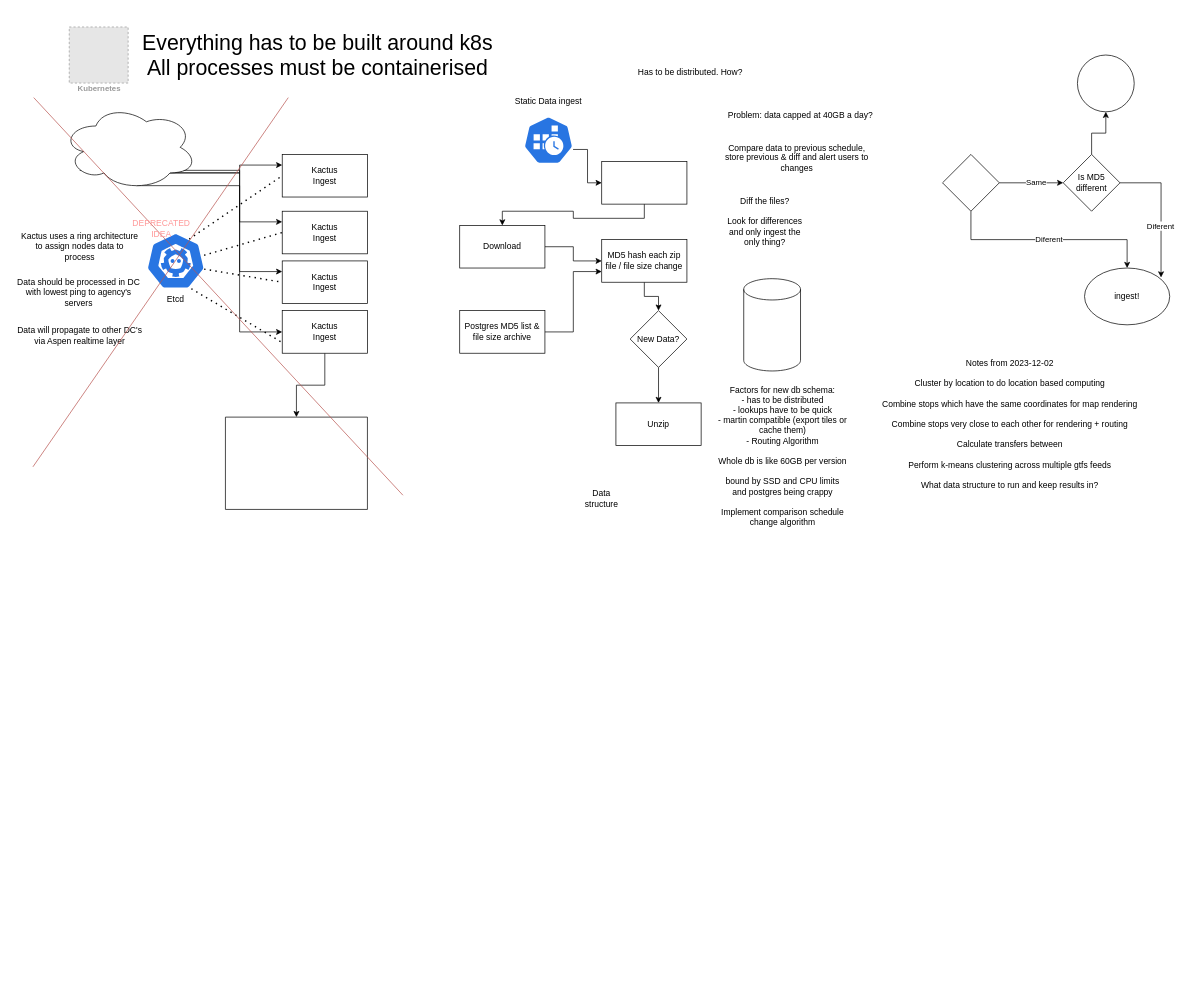
Image size: 1186x997. Some labels were removed from this diagram. Grey dashed boxes stand in for pictures. The box of each missing label's shape, as (x1, y1, x2, y2) in pixels:
Ingester Trigger Cron: (601, 161, 687, 204)
Is file size different: (942, 154, 999, 211)
Kactus Public Developer API (based on v1 kactus, should be backwards compatible): (225, 416, 367, 509)
No: (1077, 54, 1134, 112)
Postgres GTFS Static Data: (743, 278, 801, 371)
Swiftly: (61, 104, 197, 190)
